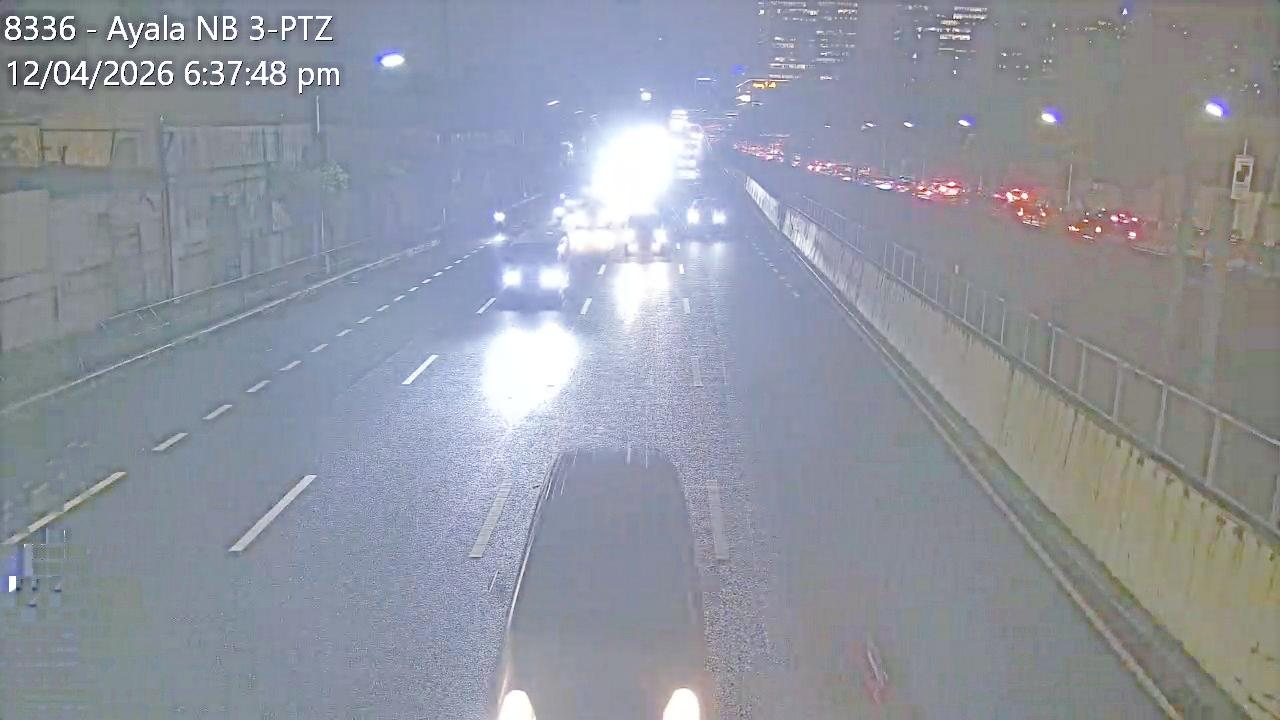Car: (503, 433, 736, 720), (497, 229, 572, 308), (561, 207, 626, 264), (622, 208, 669, 260), (684, 194, 731, 242)
Not Accident: (572, 204, 668, 262)
